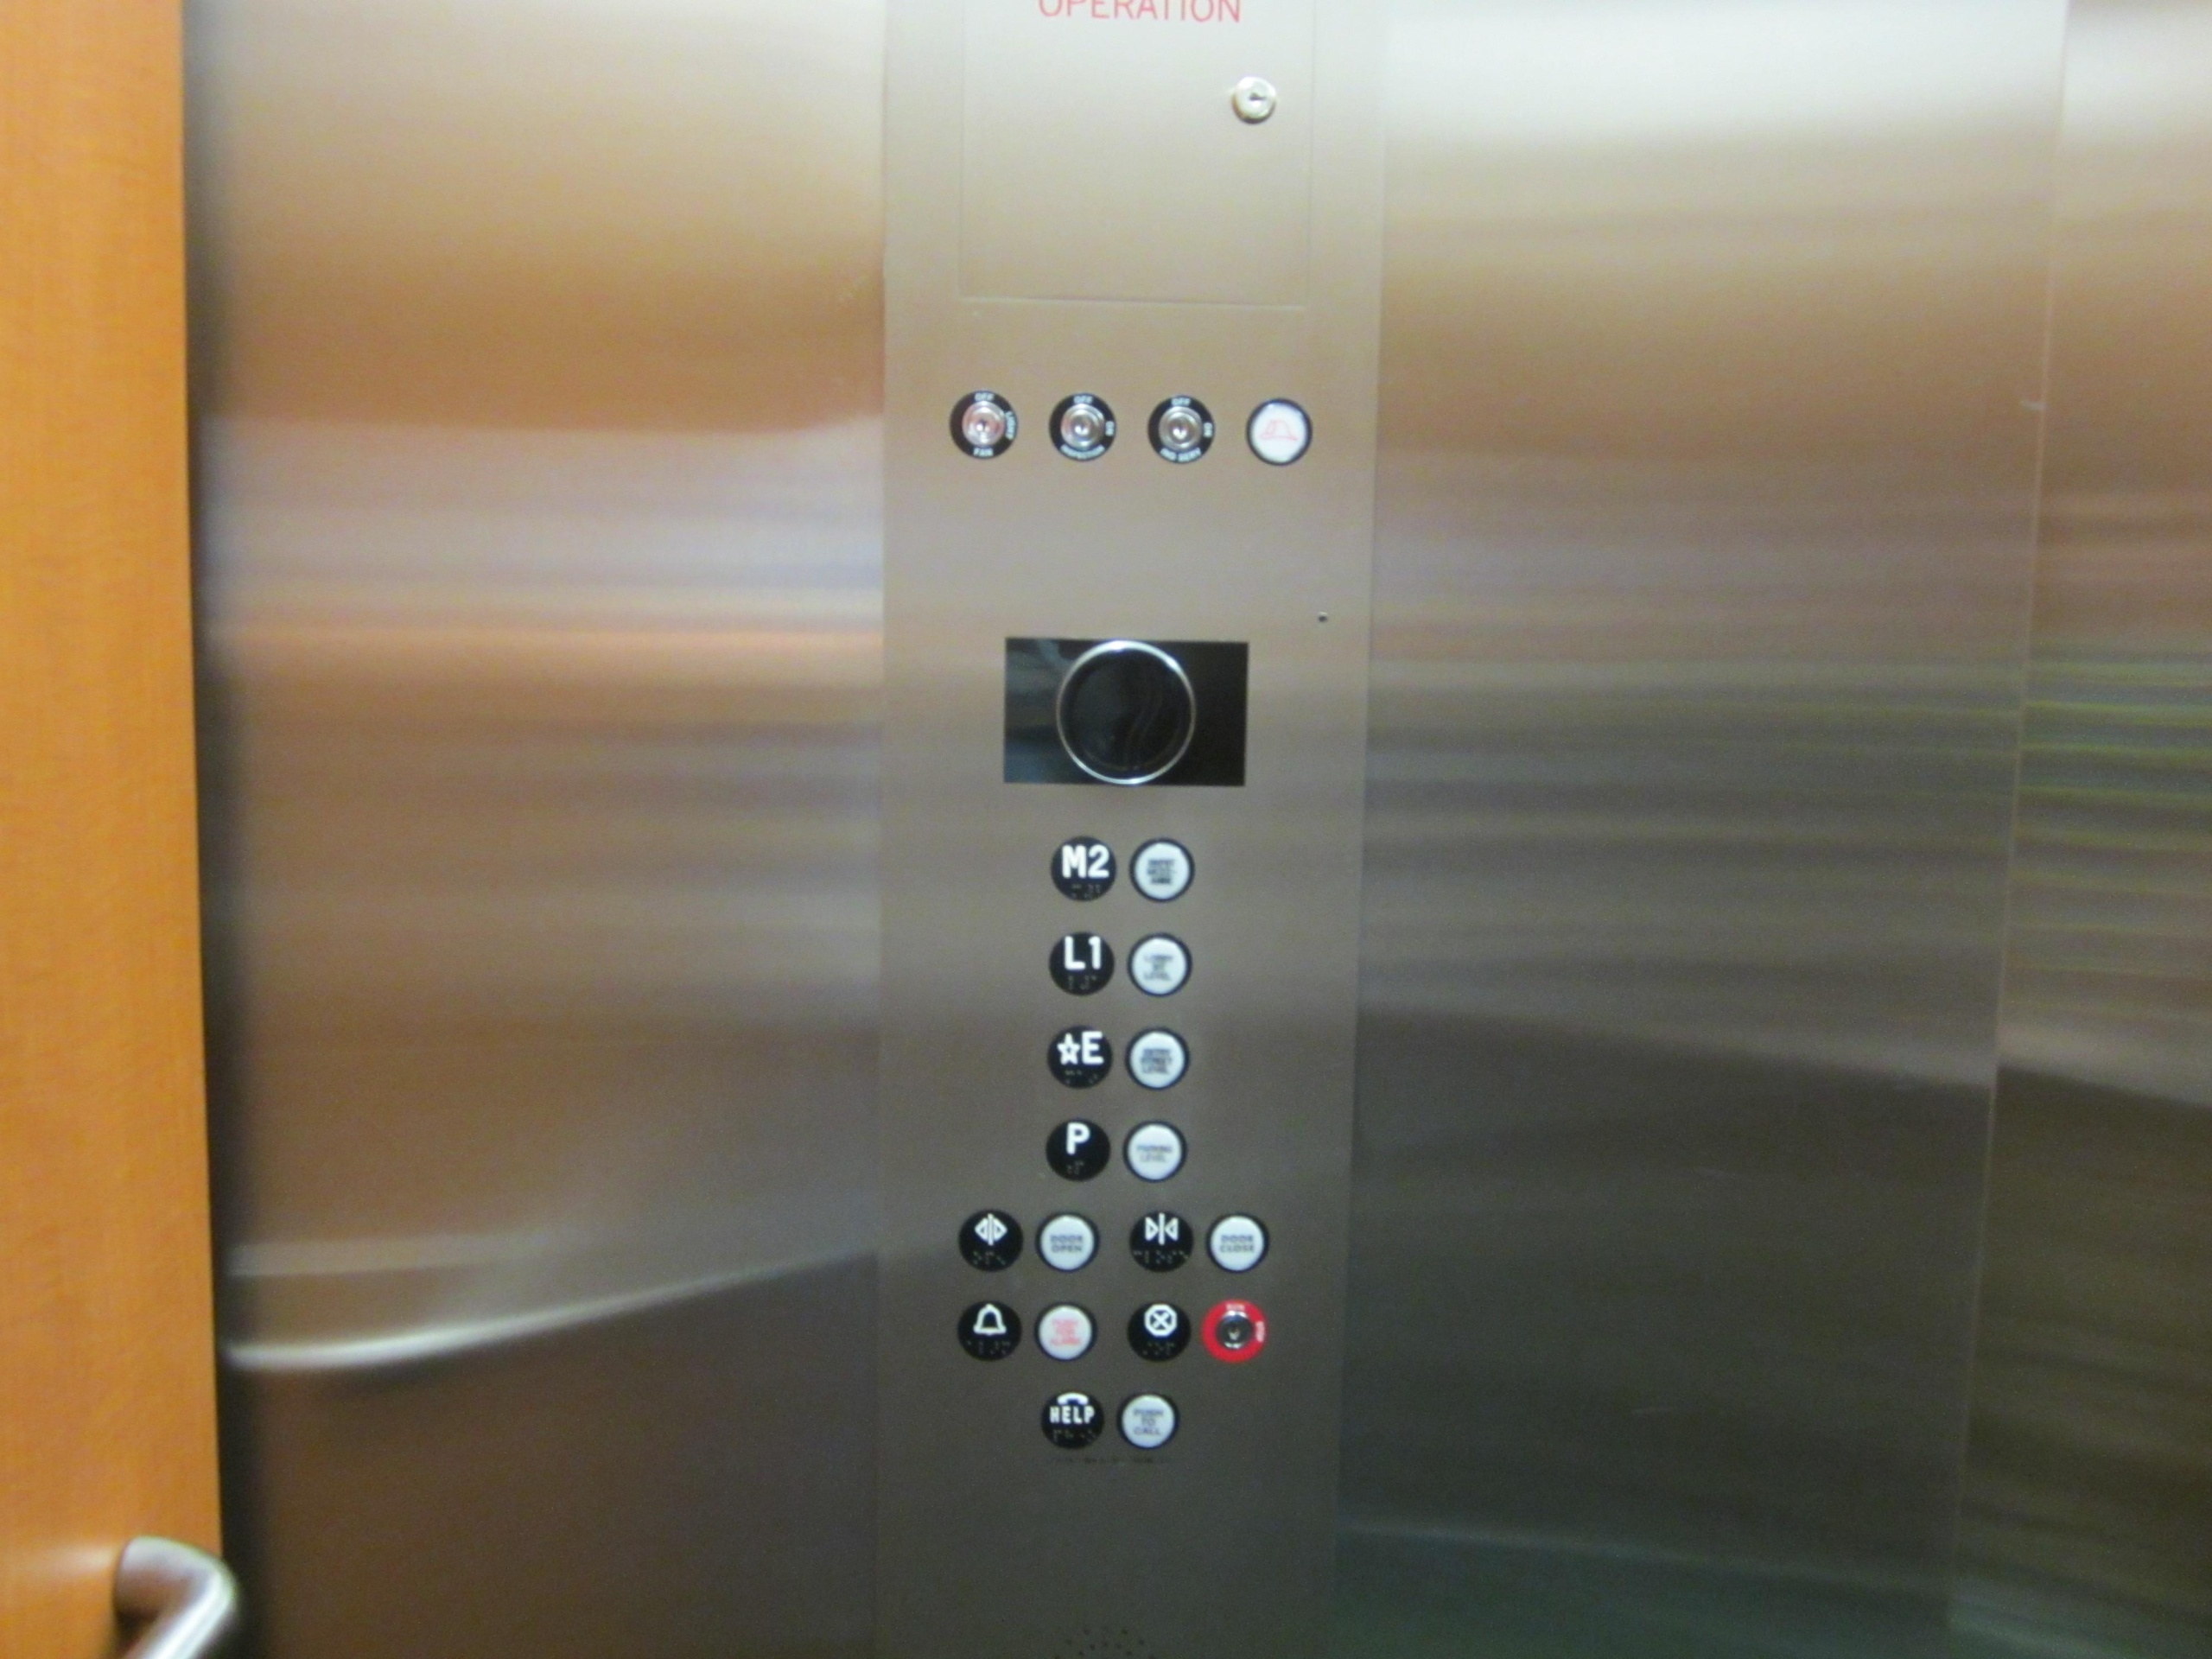L1: (1047, 931, 1115, 999)
M2: (1049, 835, 1116, 901)
P: (1043, 1117, 1111, 1183)
alarm: (958, 1298, 1022, 1361)
call: (1042, 1389, 1104, 1450)
close: (1129, 1209, 1195, 1274)
hat: (1244, 397, 1315, 469)
keyhole: (1144, 396, 1216, 464), (1049, 392, 1116, 462), (949, 390, 1017, 458), (1202, 1298, 1268, 1363), (1230, 77, 1278, 125)
led: (1001, 634, 1249, 784)
open: (958, 1208, 1026, 1272)
sE: (1047, 1025, 1113, 1089)
stop: (1125, 1302, 1193, 1363)
text_blur: (1125, 931, 1193, 999), (1129, 836, 1197, 903), (1123, 1026, 1191, 1091), (1122, 1121, 1190, 1183), (1035, 1209, 1101, 1272), (1207, 1211, 1273, 1274), (1031, 1302, 1099, 1363), (1115, 1391, 1183, 1452)
